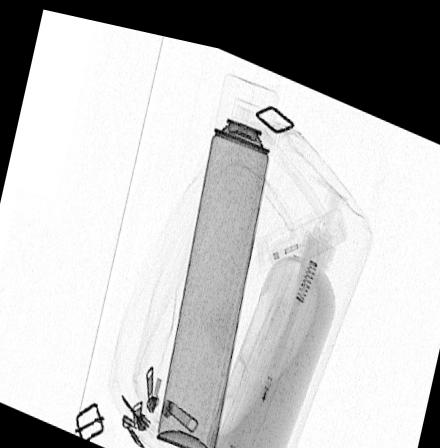Sprayer: (156, 58, 279, 448)
